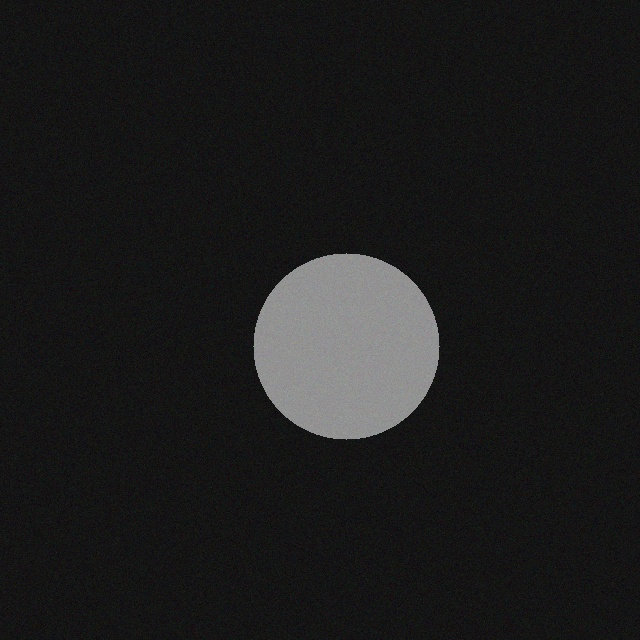circle: (251, 258, 437, 444)
